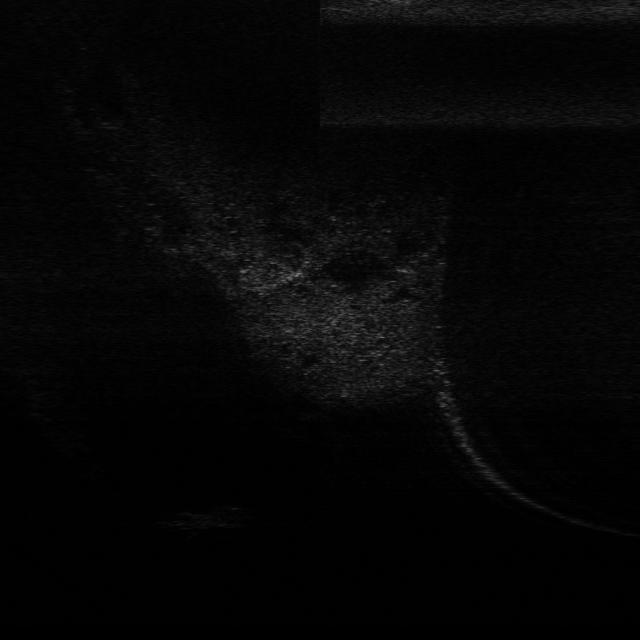cube: (164, 504, 250, 530)
